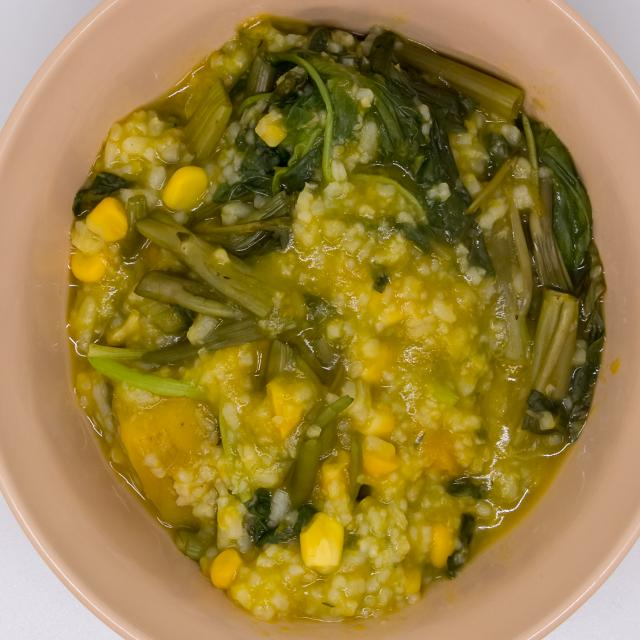Bubur-Manado: (46, 2, 617, 625)
